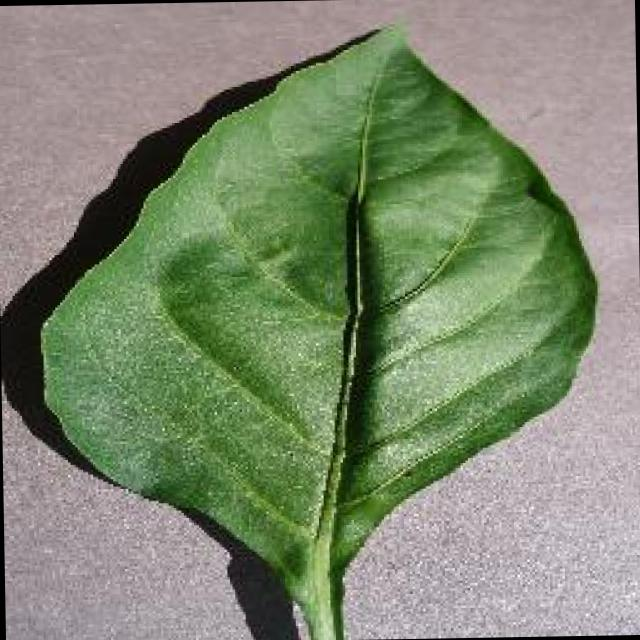Chilli_Healthy: (29, 17, 602, 640)
